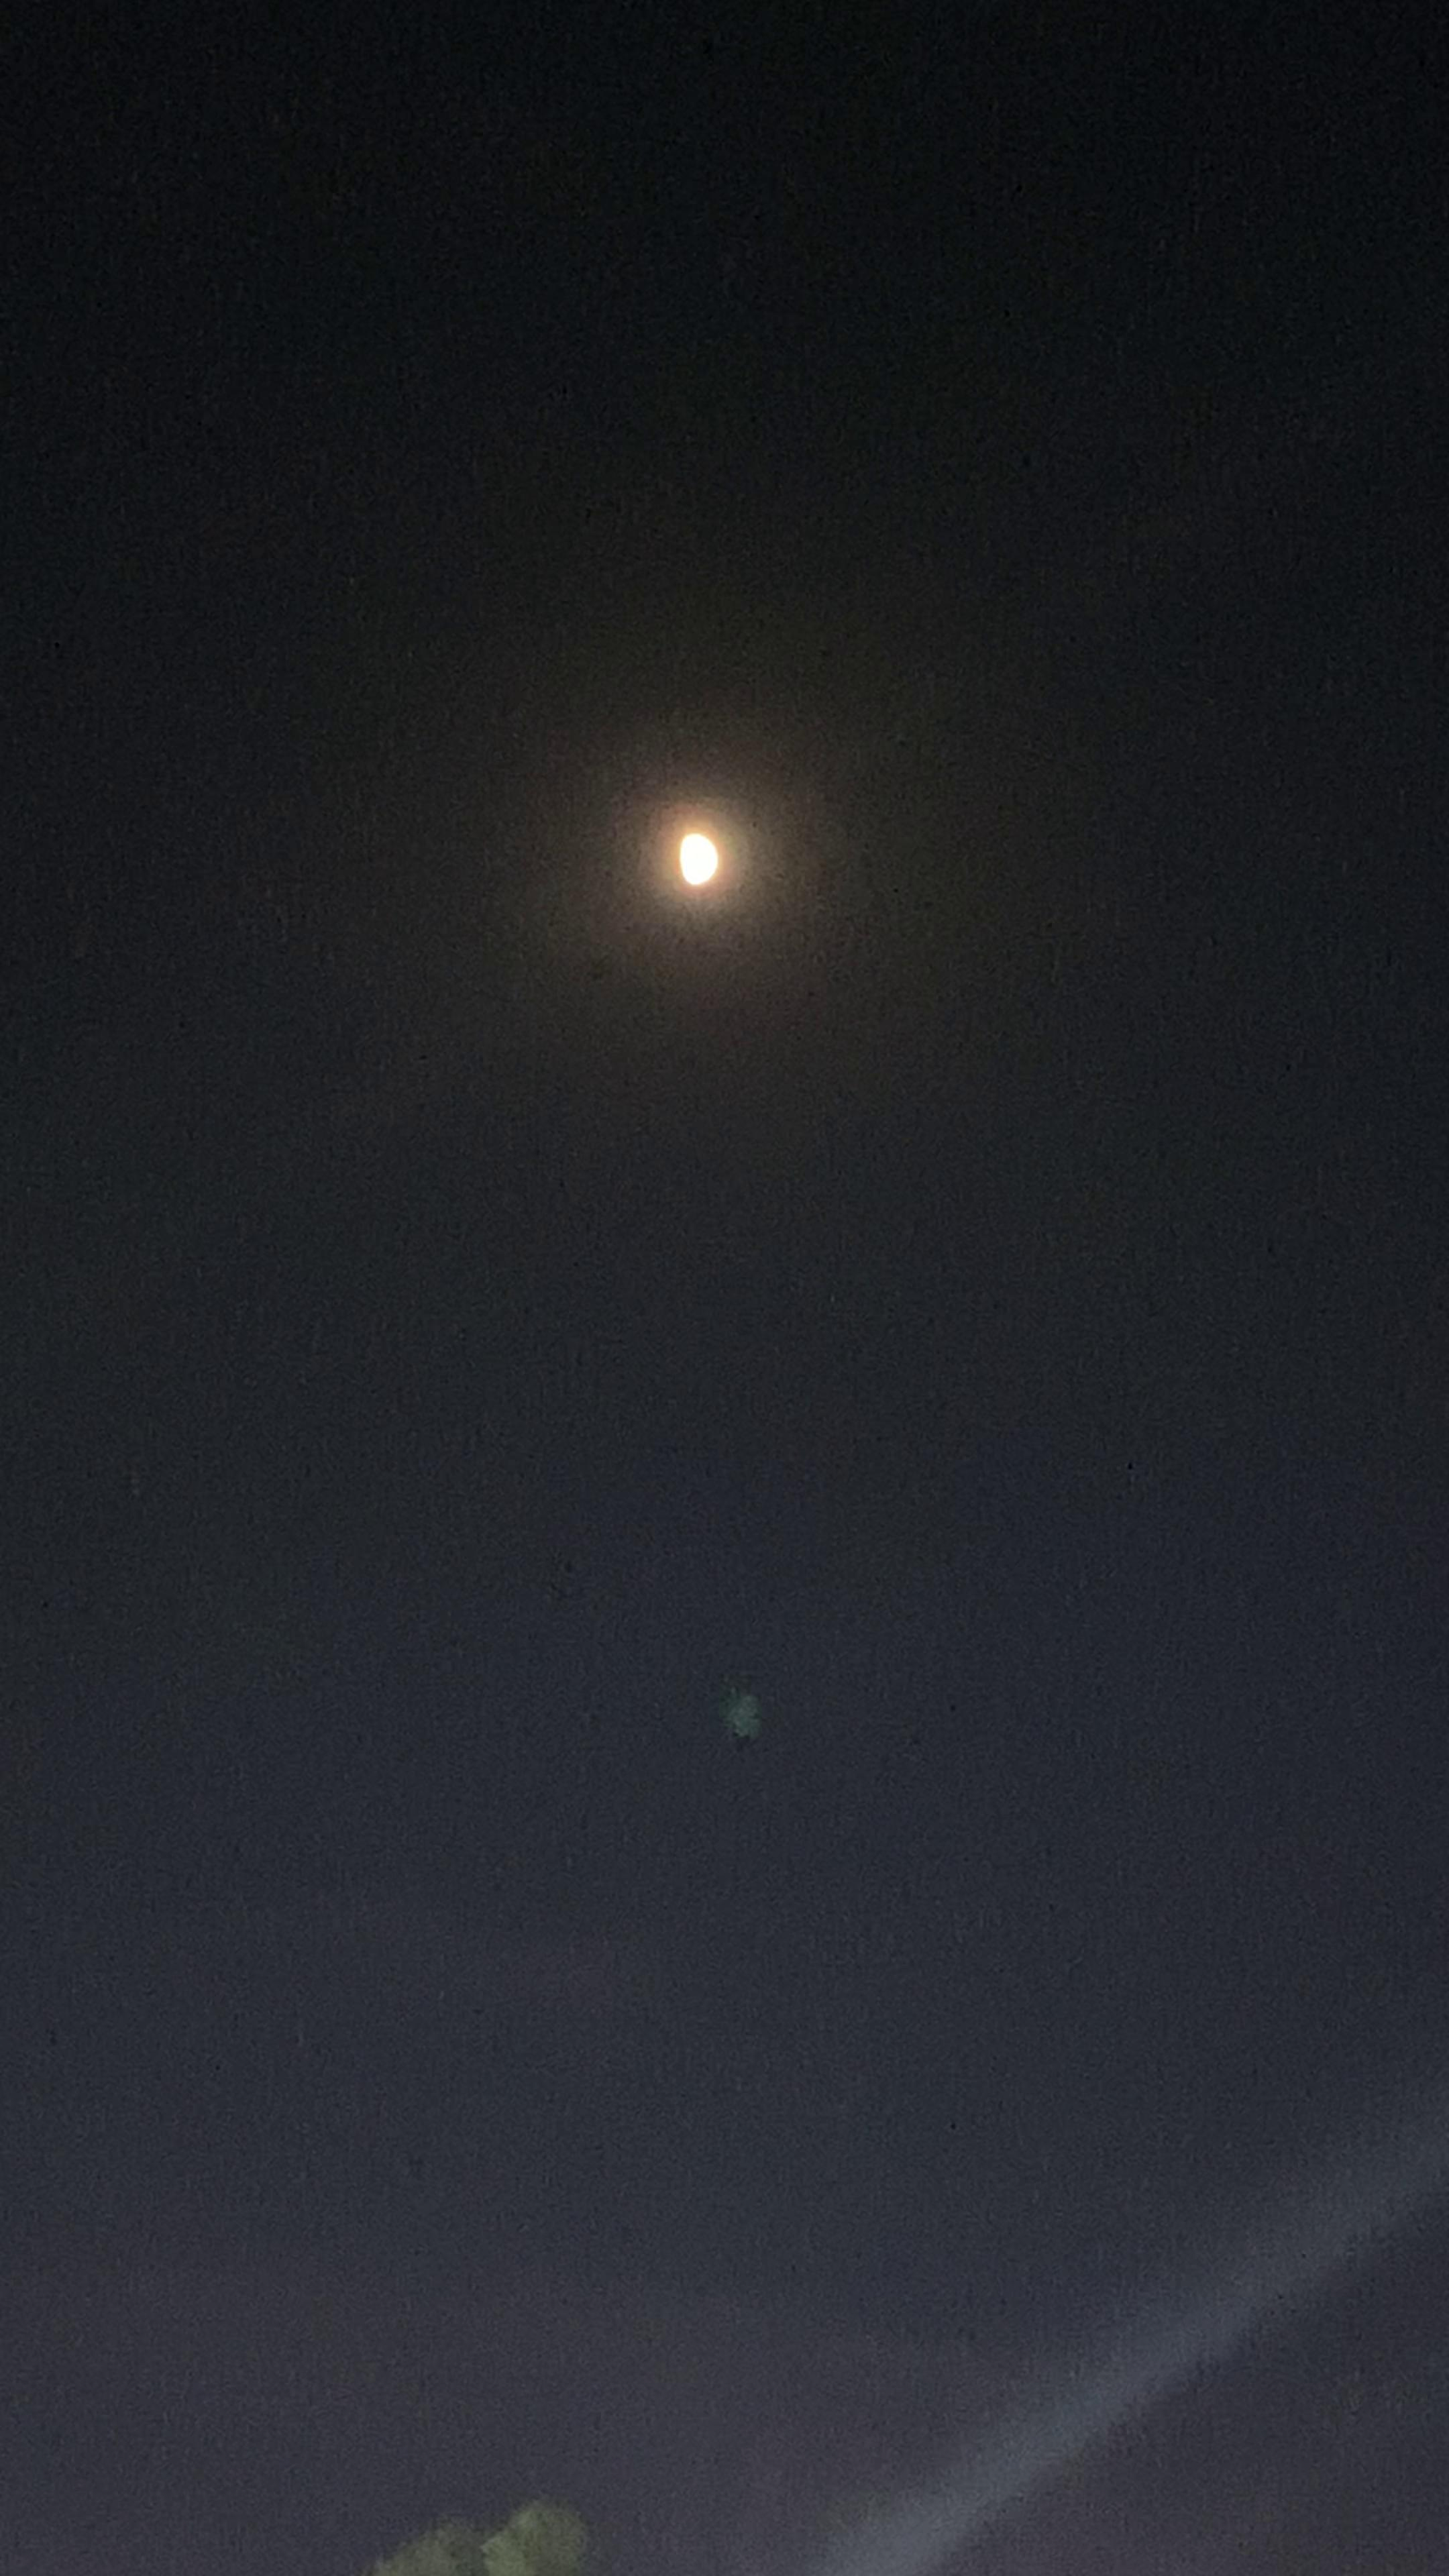moon: (656, 801, 773, 929)
